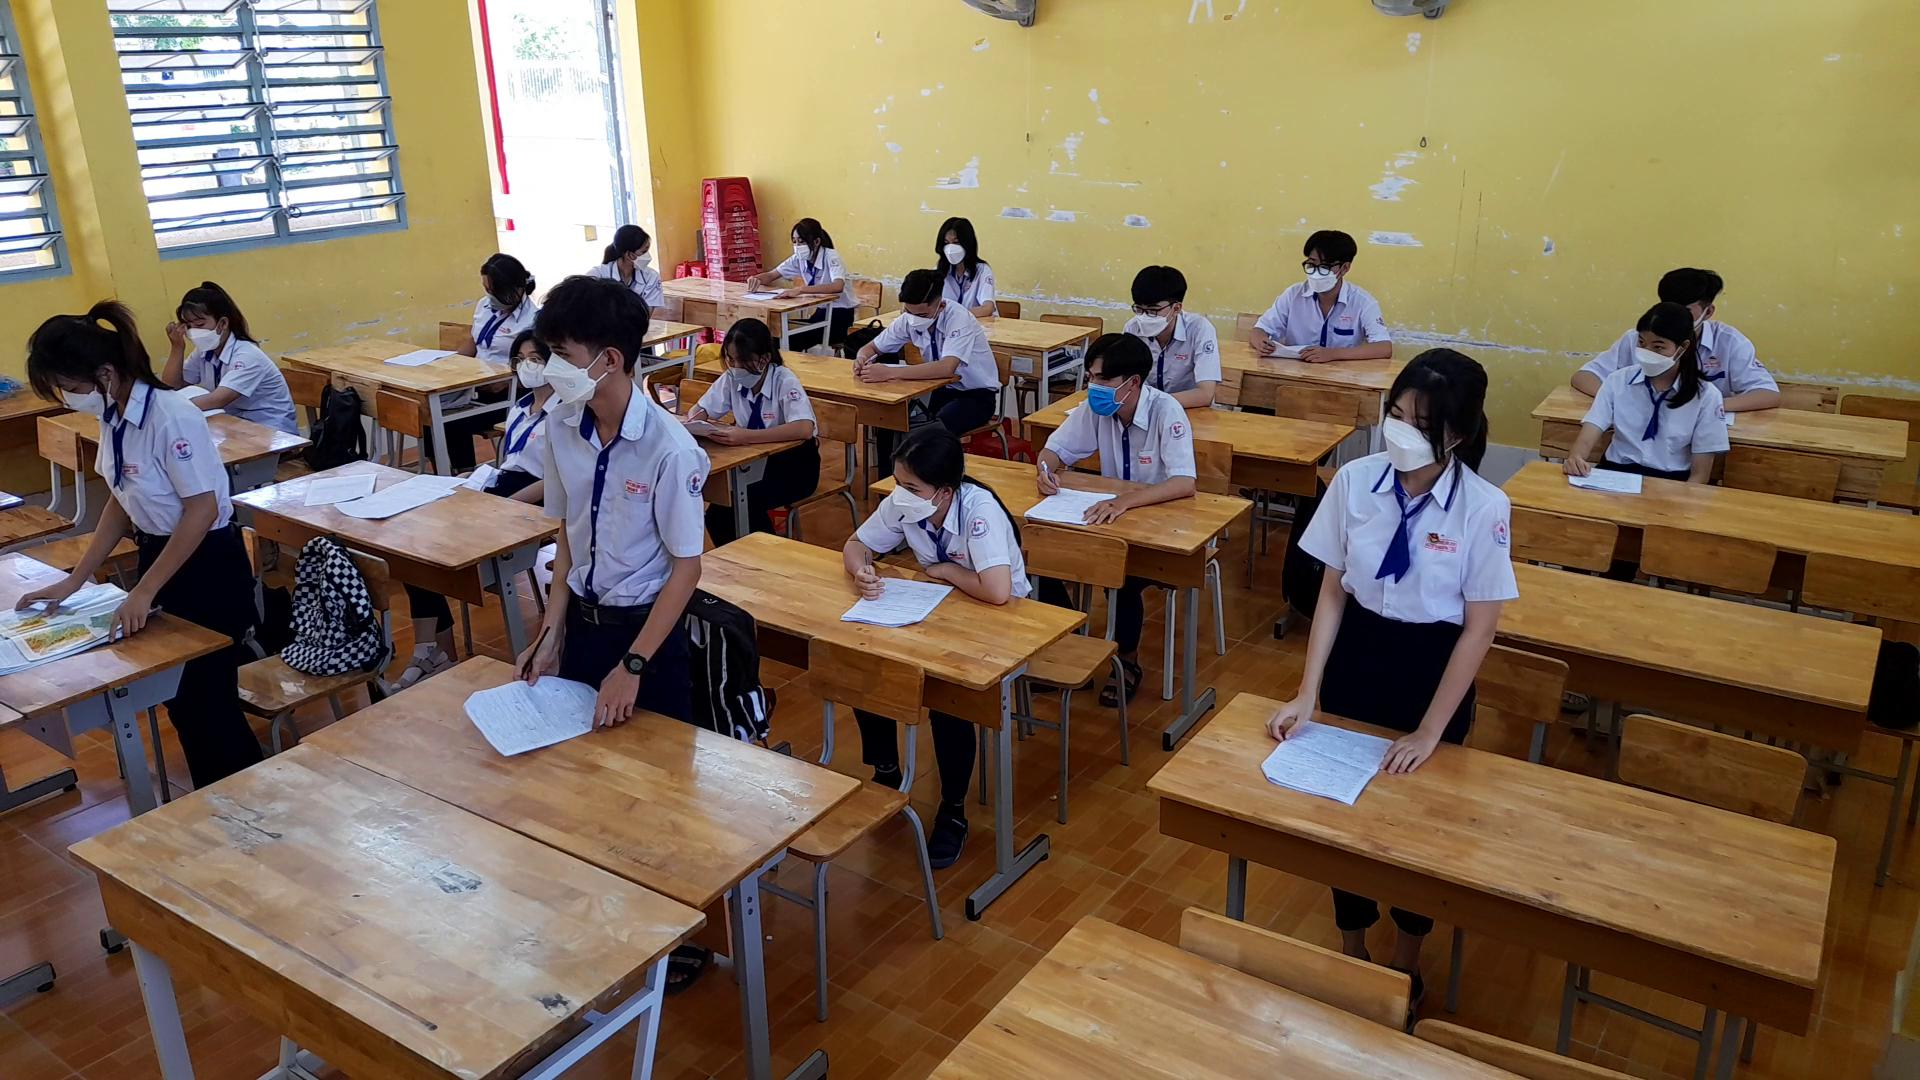Hand Under Table: (1683, 382, 1729, 491)
Look Around: (591, 218, 659, 280)
Normal: (833, 421, 1034, 615), (1022, 323, 1207, 526), (1240, 211, 1398, 368), (840, 260, 1004, 386), (742, 204, 860, 301)
Stand Up: (1255, 328, 1527, 790), (483, 268, 713, 735), (9, 301, 245, 651)
